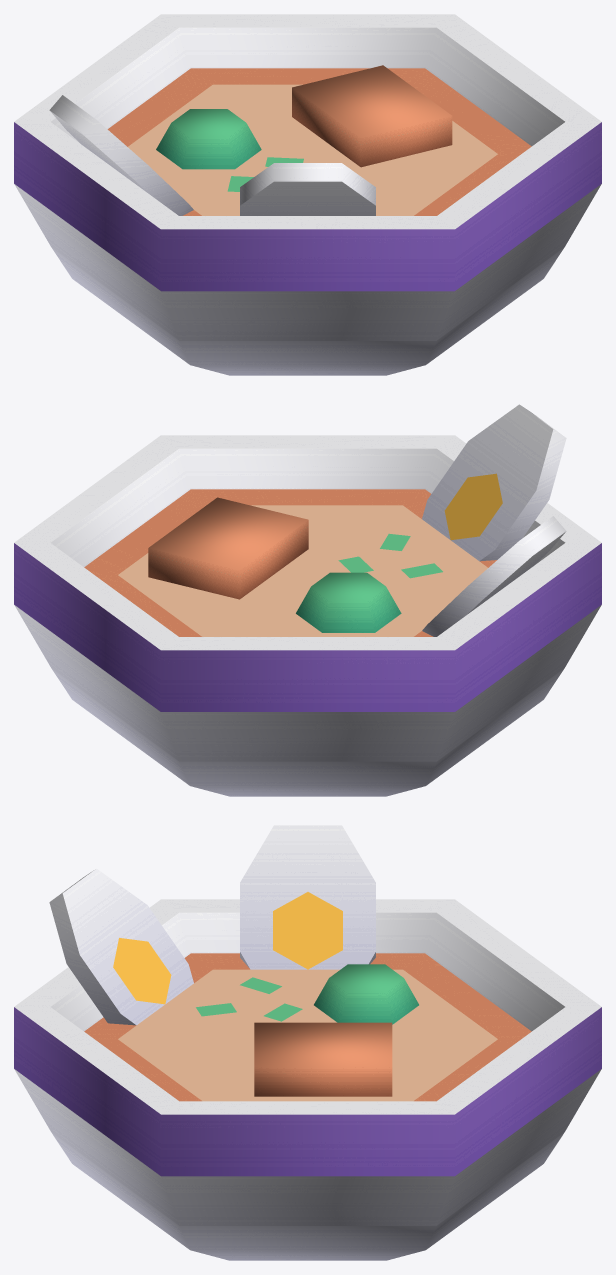
File: bowl-broth.glb
3 renders of one model, top to bottom at view 1: azimuth 30°, elevation 25°; view 2: azimuth 150°, elevation 25°; view 3: azimuth 270°, elevation 25°, orthographic.
Parts seen in each view (by area): view 1: bowl-broth, Group; view 2: bowl-broth, Group; view 3: bowl-broth, Group.
Boxes of the visible parts, x1,y1,x2,y2 form: bowl-broth: [14, 14, 601, 375]; Group: [156, 109, 261, 169]; bowl-broth: [14, 404, 601, 796]; Group: [296, 572, 401, 632]; bowl-broth: [14, 825, 601, 1260]; Group: [314, 964, 418, 1024].
Bounding box in the file's own units: 0.5262 × 0.2903 × 0.5798.
1 material, 1 textured.
